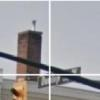chimneys: (16, 19, 42, 83)
